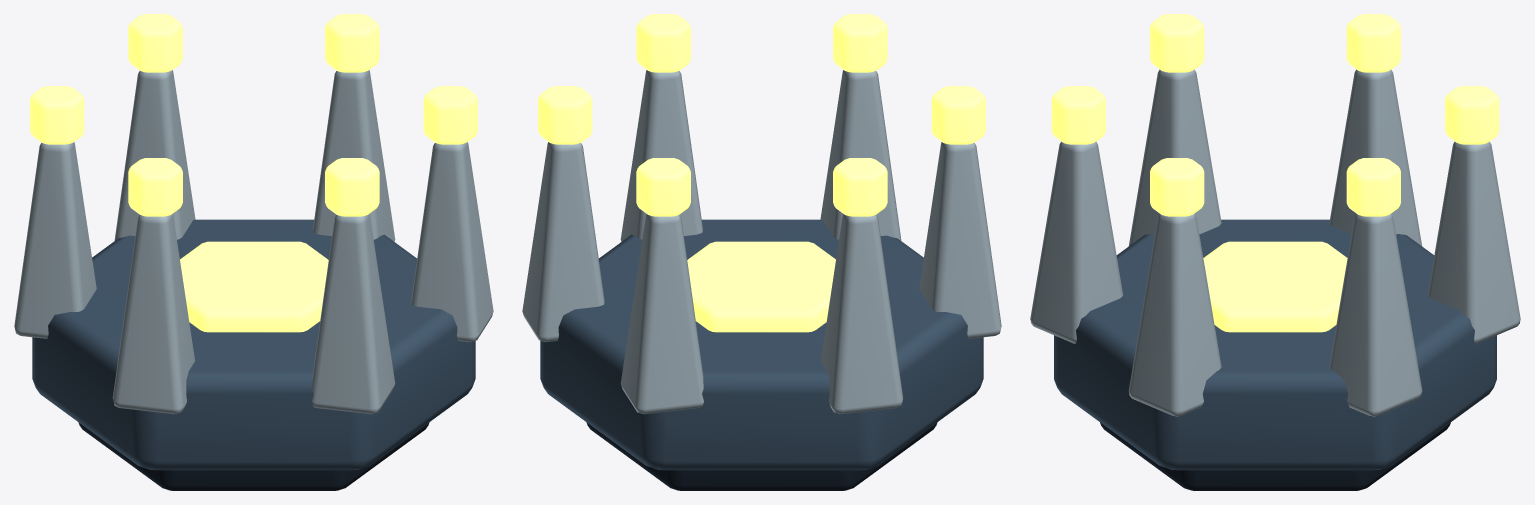
File: enemy_role_elite.fbx
3 renders of one model, left to right at view 1: azimuth 30°, elevation 25°; view 2: azimuth 150°, elevation 25°; view 3: azimuth 270°, elevation 25°, orthographic.
Parts seen in each view (by area): view 1: enemy_role_elite_Geometry; view 2: enemy_role_elite_Geometry; view 3: enemy_role_elite_Geometry.
Boxes of the visible parts, <box> form: enemy_role_elite_Geometry: <box>14,14,493,490</box>; enemy_role_elite_Geometry: <box>522,14,1001,490</box>; enemy_role_elite_Geometry: <box>1030,14,1520,490</box>.
Bounding box in the file's own units: 0.5613 × 0.475 × 0.6289.
